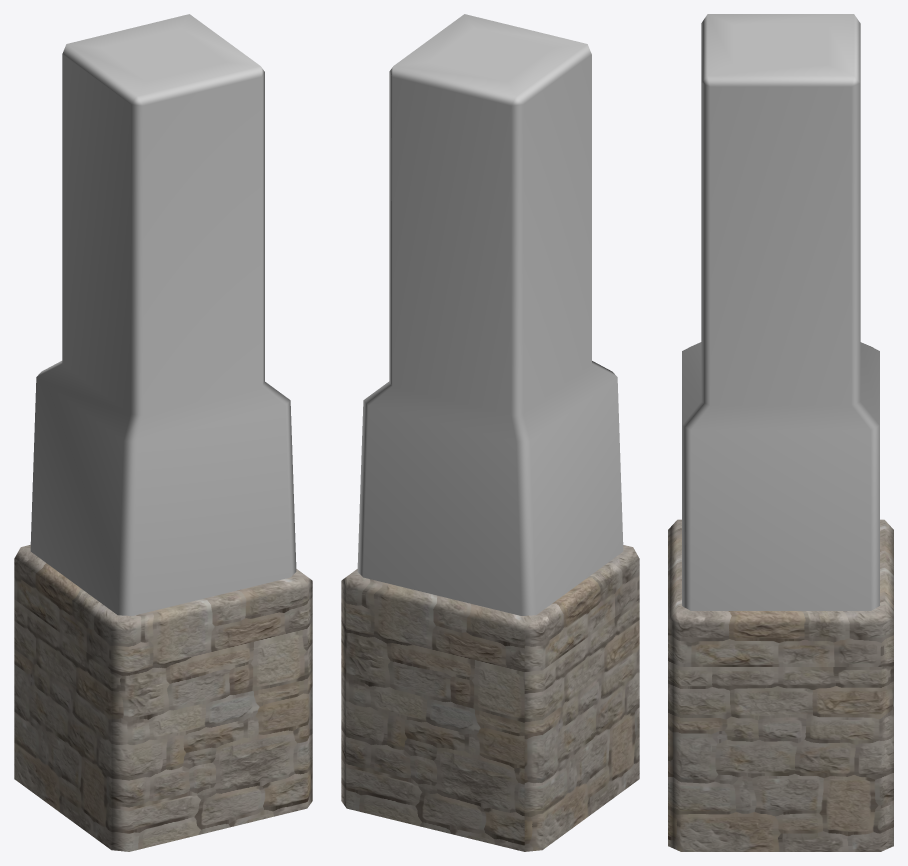
The model's file is ChimneyBase.fbx.
The picture shows the model from 3 angles, left to right: view 1: azimuth 30°, elevation 25°; view 2: azimuth 150°, elevation 25°; view 3: azimuth 270°, elevation 25°; orthographic projection. The views are drawn at different scales.
Visible parts, largest first — view 1: Mesh; view 2: Mesh; view 3: Mesh.
Boxes of the visible parts, x1=… form: Mesh: x1=14, y1=14, x2=312, y2=851; Mesh: x1=341, y1=14, x2=639, y2=851; Mesh: x1=668, y1=14, x2=893, y2=851.
Size of the model in its own units: 274 by 957 by 259.
